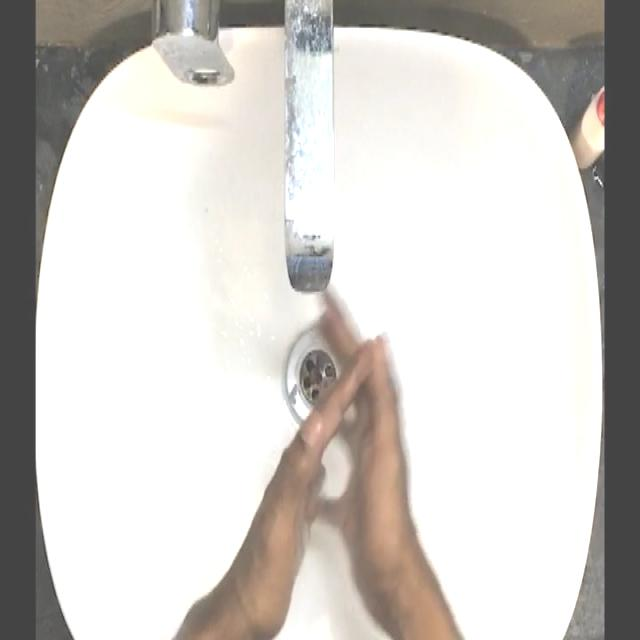step_3: (266, 265, 419, 595)
